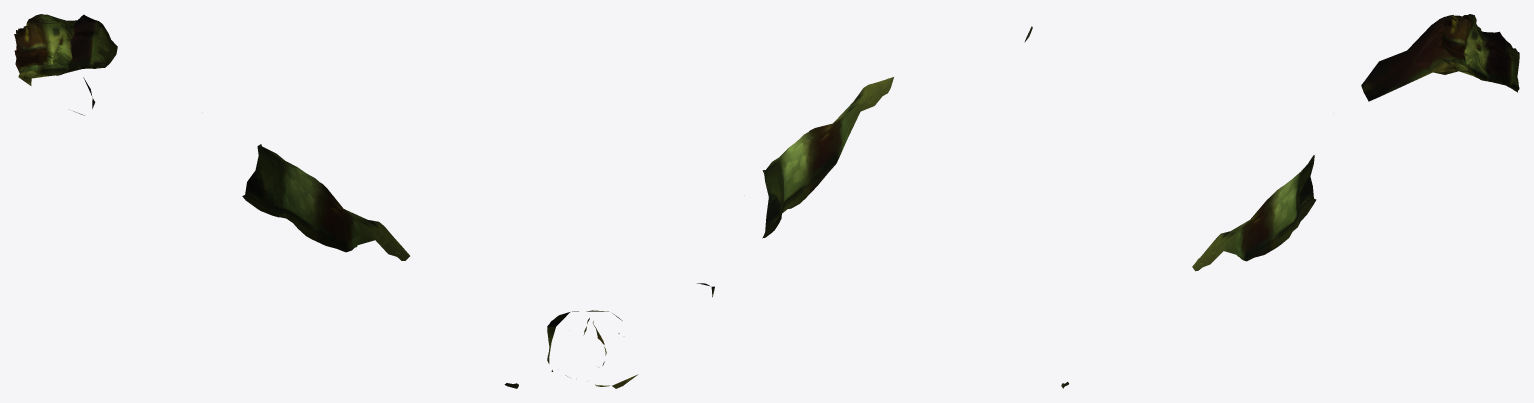
File: texturedMesh.glb
3 renders of one model, left to right at view 1: azimuth 30°, elevation 25°; view 2: azimuth 150°, elevation 25°; view 3: azimuth 330°, elevation 25°, orthographic. The views are drawn at different scales.
Visible parts, largest first — view 1: texturedMesh; view 2: texturedMesh; view 3: texturedMesh.
Boxes of the visible parts, x1,y1,x2,y2 form: texturedMesh: [14, 14, 518, 388]; texturedMesh: [547, 26, 1032, 388]; texturedMesh: [1061, 14, 1519, 388].
Size of the model in its own units: 0.2423 by 0.1896 by 2.1.
Materials: 1 (1 with a texture image).
